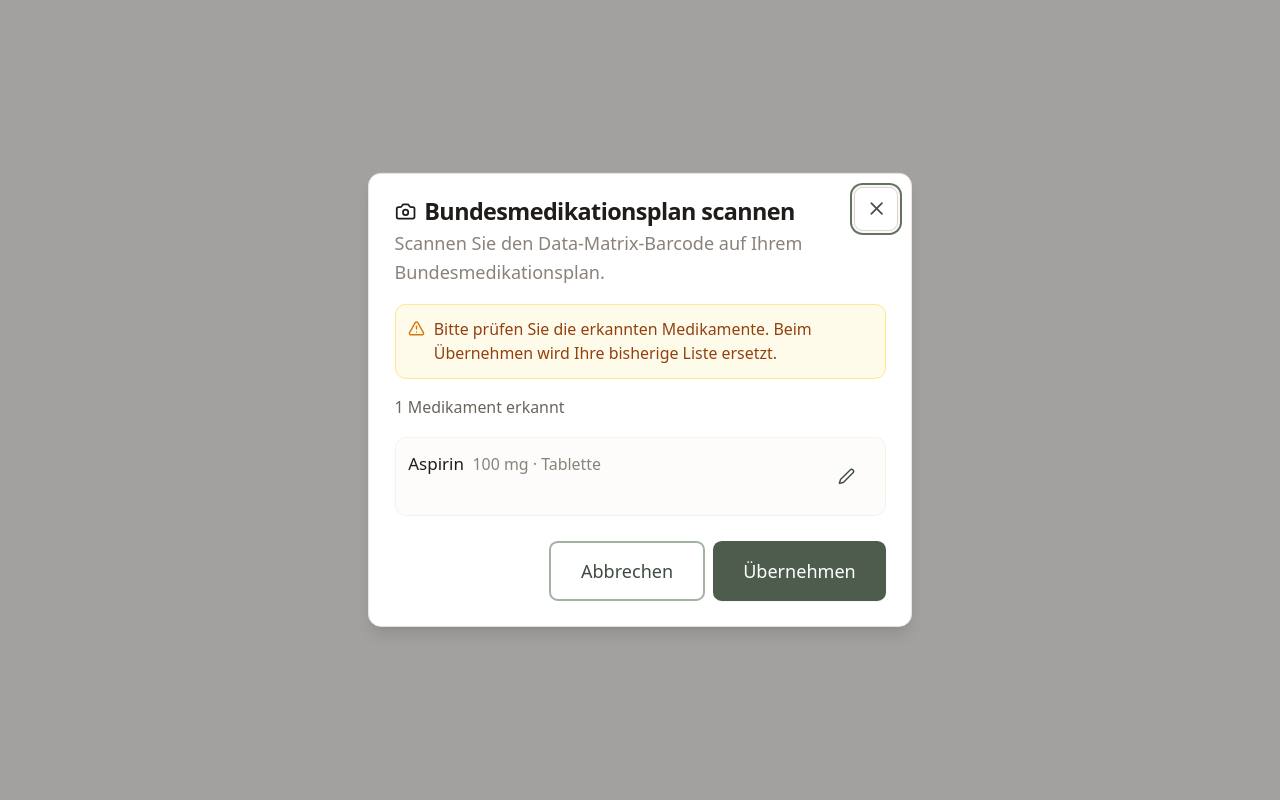
Test case: BmpScanDialog — PreviewEditDialog form fields › Form label reads "Form"
The image size is (1280, 800).
Expected: the button "Übernehmen" is shown, [713,541,886,601]
Click the button without text in the row of "100 mg · Tablette" at (846, 476), box [821,451,872,502]
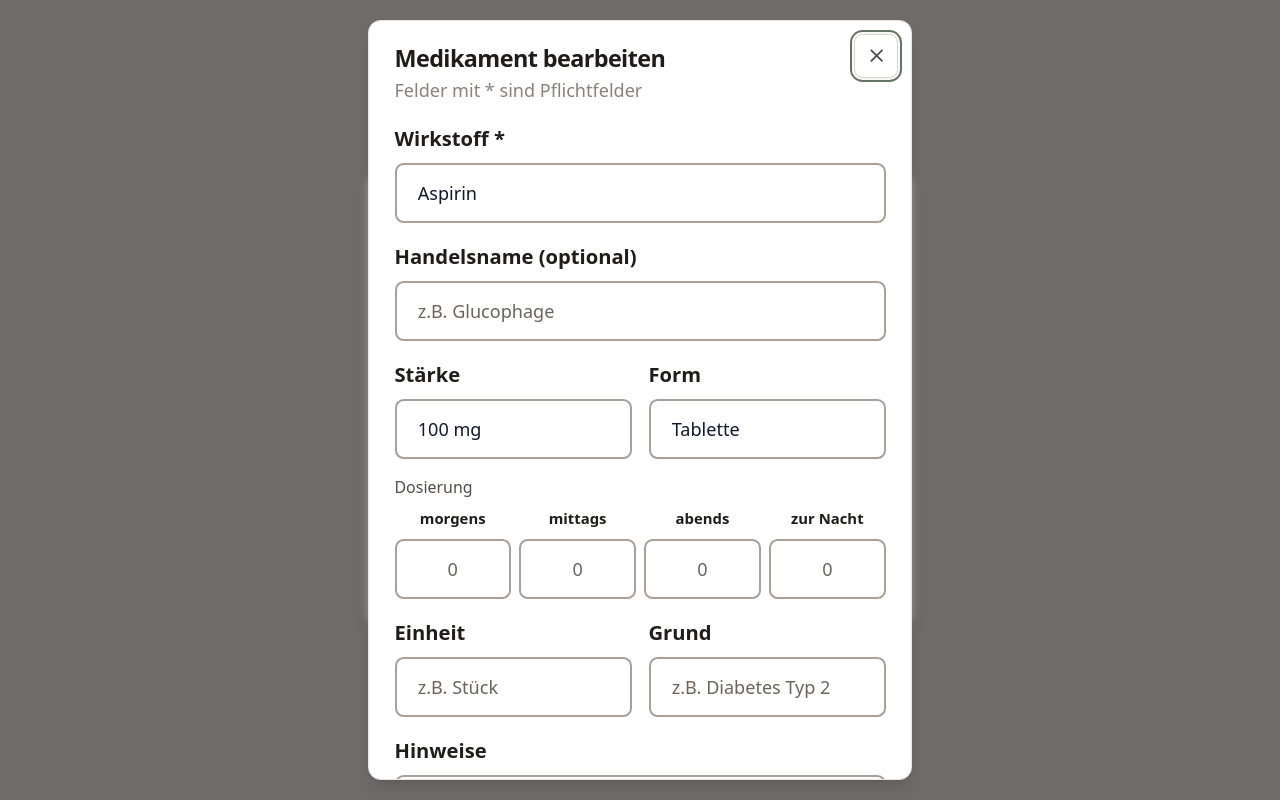
Expected: the text "Wirkstoff *" is shown, [394,124,505,152]
Expected: the text "Form" is shown, [648,360,701,388]
